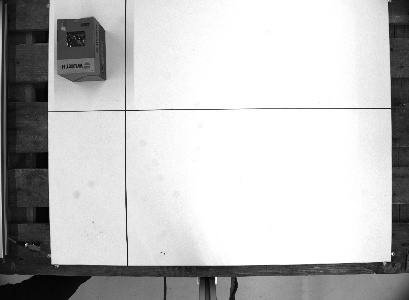b4: (53, 15, 108, 84)
